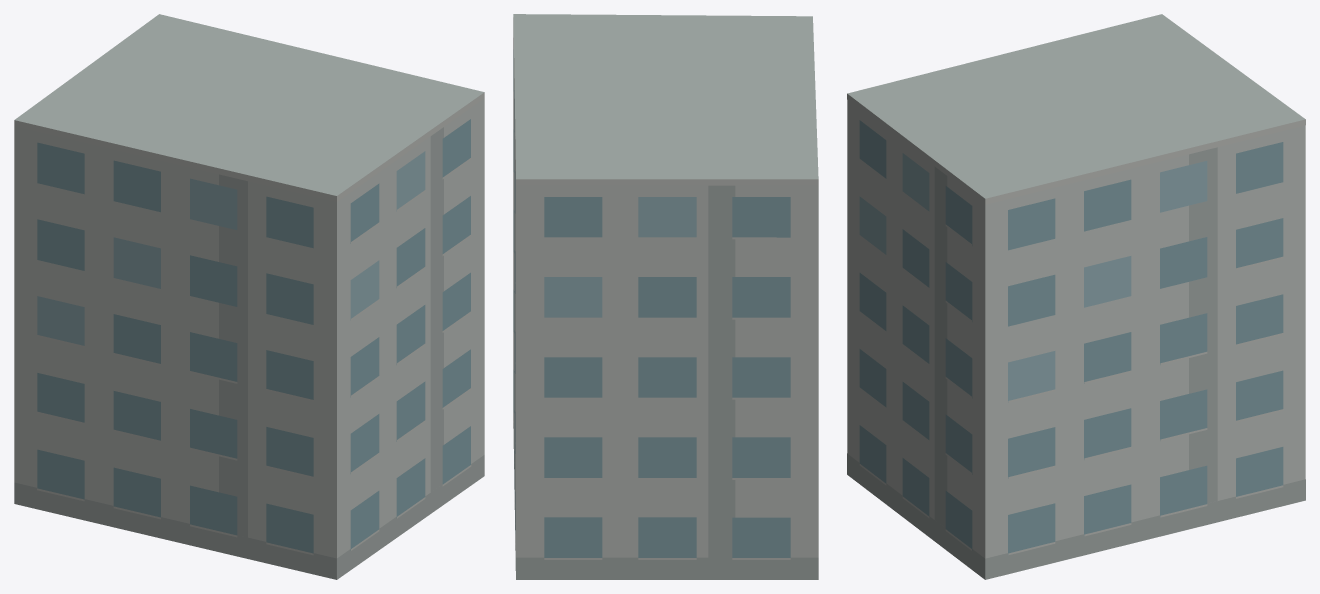
Rendered from survey-upis-32765166.glb.
3 renders of one model, left to right at view 1: azimuth 30°, elevation 25°; view 2: azimuth 150°, elevation 25°; view 3: azimuth 270°, elevation 25°, orthographic. The views are drawn at different scales.
Visible parts, largest first — view 1: survey-upis-32765166.tmp; view 2: survey-upis-32765166.tmp; view 3: survey-upis-32765166.tmp.
Part boxes in pixels (x1,y1,x2,y2): survey-upis-32765166.tmp: [14, 14, 484, 579]; survey-upis-32765166.tmp: [513, 14, 818, 579]; survey-upis-32765166.tmp: [847, 14, 1305, 579].
Size of the model in its own units: 15.87 by 15.25 by 16.64.
